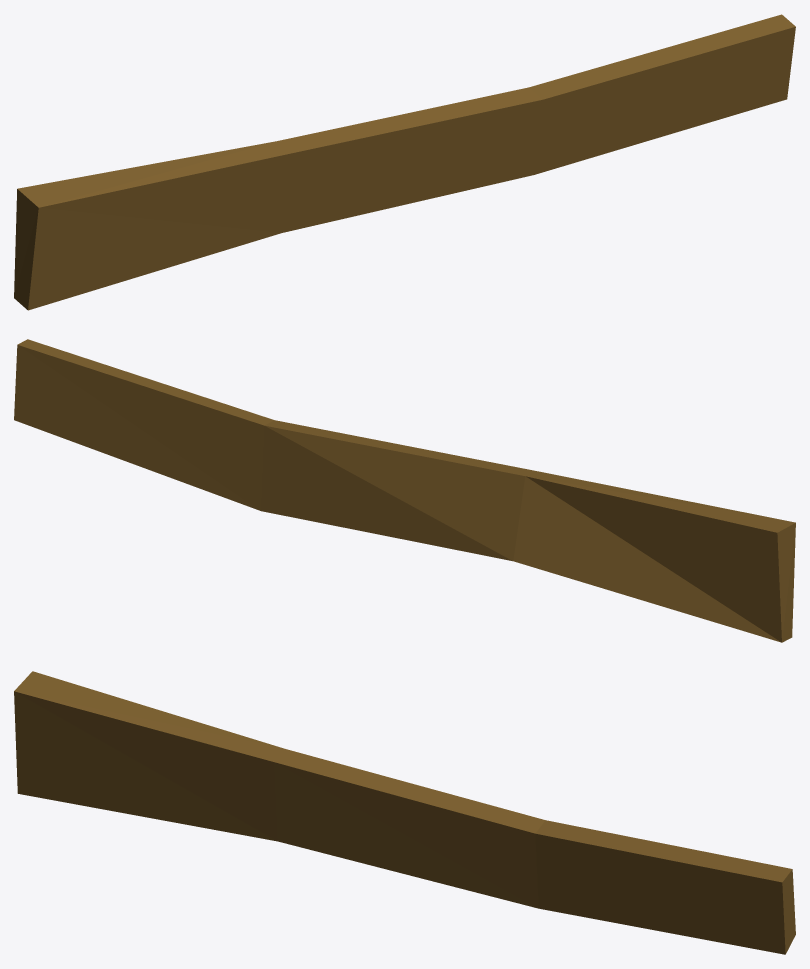
The model's file is LowPoly - Plank.fbx.
3 views of the same model, one above another, from view 1: azimuth 30°, elevation 25°; view 2: azimuth 150°, elevation 25°; view 3: azimuth 330°, elevation 25° (orthographic).
Parts seen in each view (by area): view 1: LowPoly - Plank; view 2: LowPoly - Plank; view 3: LowPoly - Plank.
Part boxes in pixels (box(x1,y1,x2,y2)): LowPoly - Plank: box(14, 14, 795, 310); LowPoly - Plank: box(14, 339, 795, 642); LowPoly - Plank: box(14, 671, 795, 954).
Size of the model in its own units: 249 by 34.98 by 16.01.
